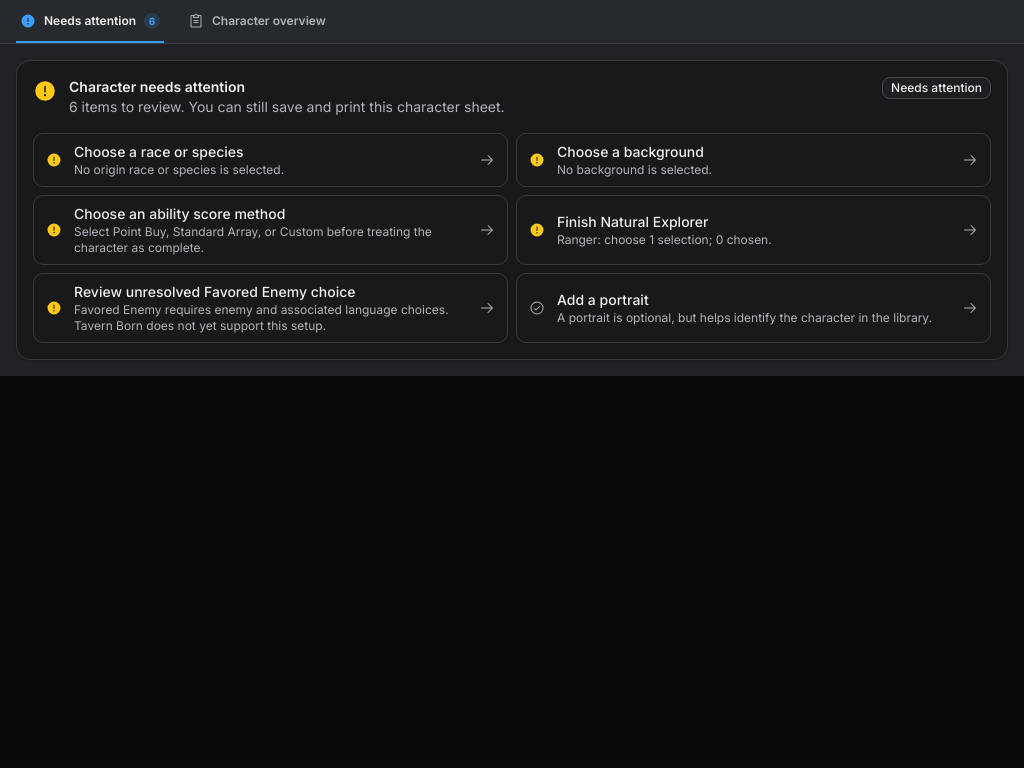
Test case: Review finishes an actual terrain with the shared modal and strict reopen
Click the button "Finish Natural Explorer" at coordinates (754, 230), box [516,195,991,265]
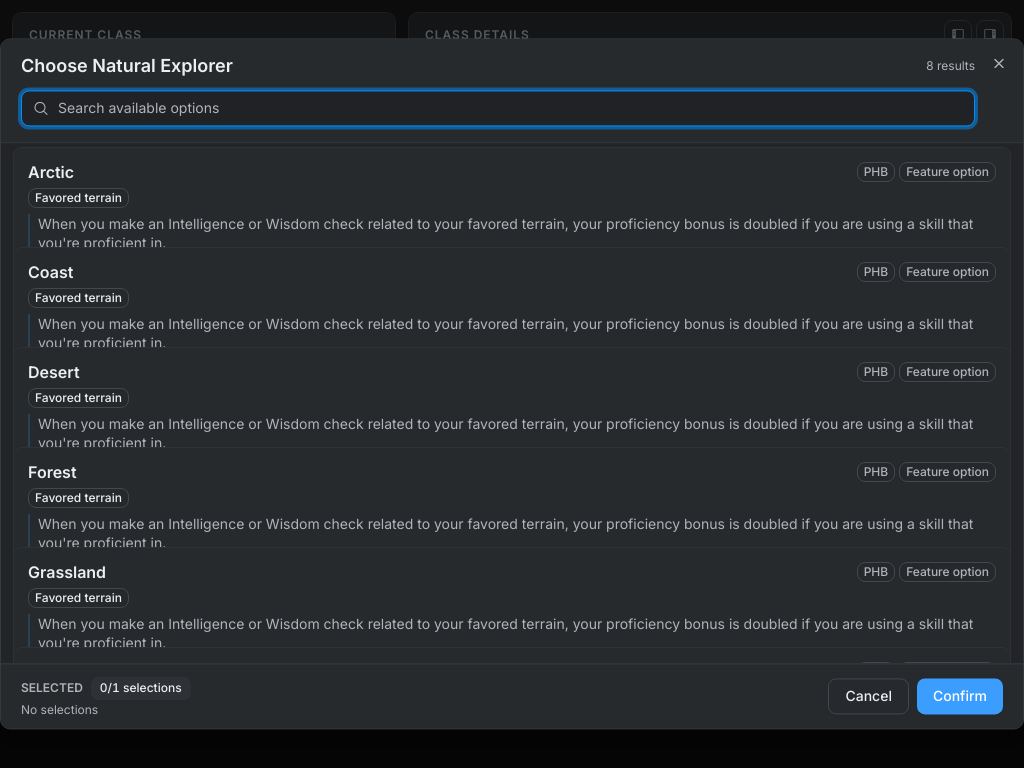
Expected: the dialog is shown
Type "Forest" into the field with placeholder "Search available options" at coordinates (498, 108), box [21,90,975,126]
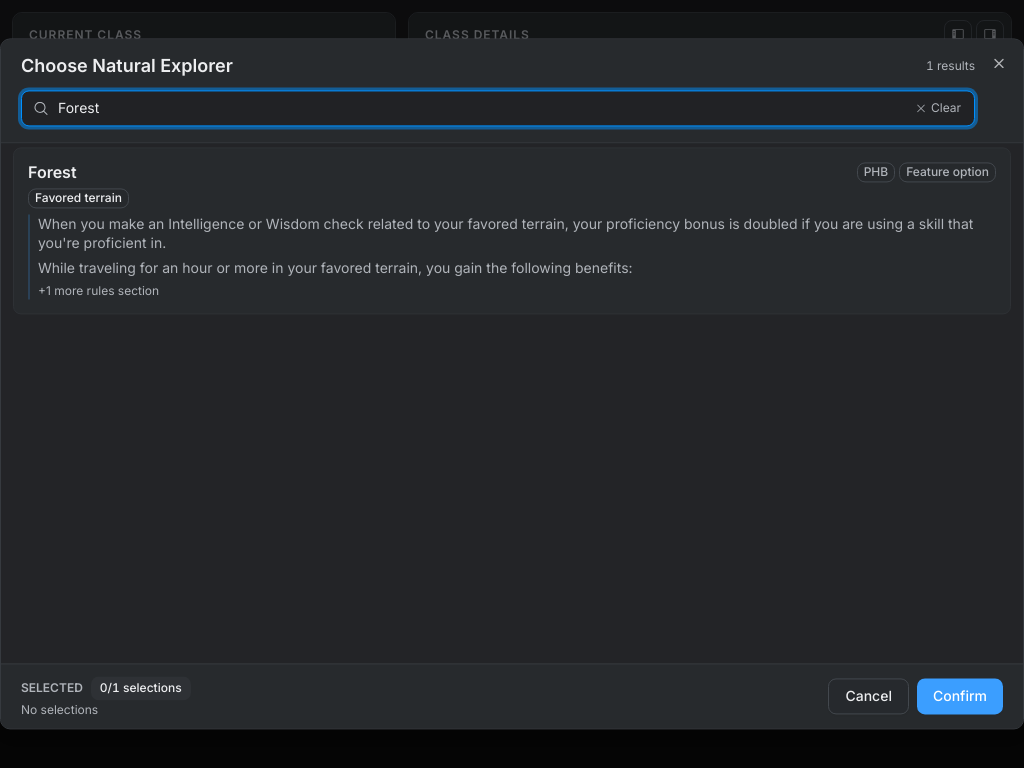
Click the button that starts with "Forest" at coordinates (512, 231), box [13,147,1011,315]
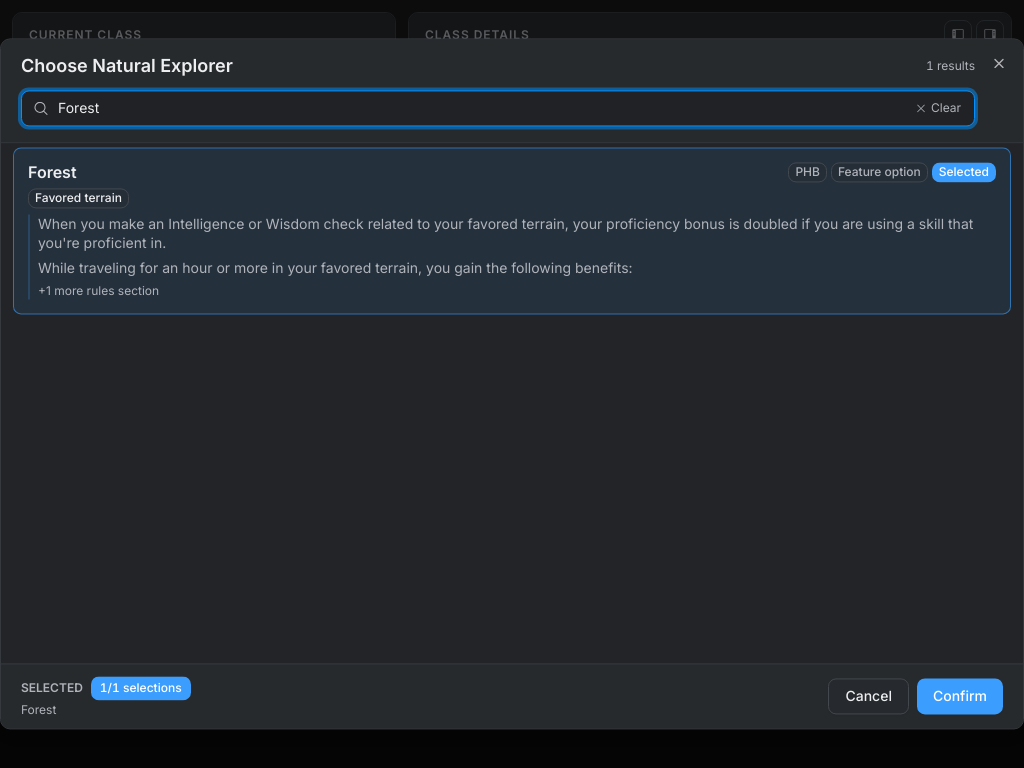
Expected: the button "Confirm" is enabled
Click the button "Confirm" at coordinates (960, 697), box [917,679,1003,715]
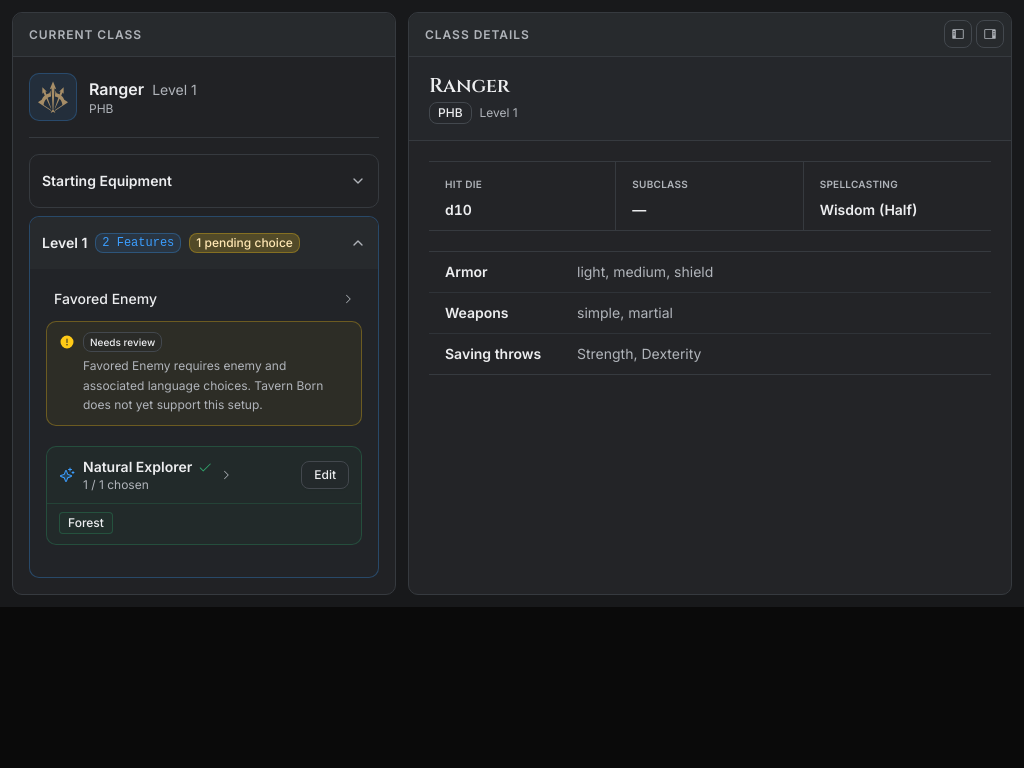
Expected: the dialog is gone
